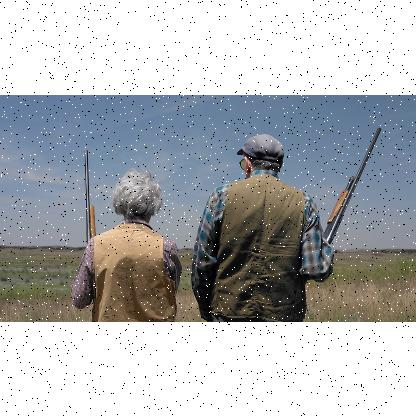gun: (321, 117, 381, 265), (72, 144, 98, 304)
